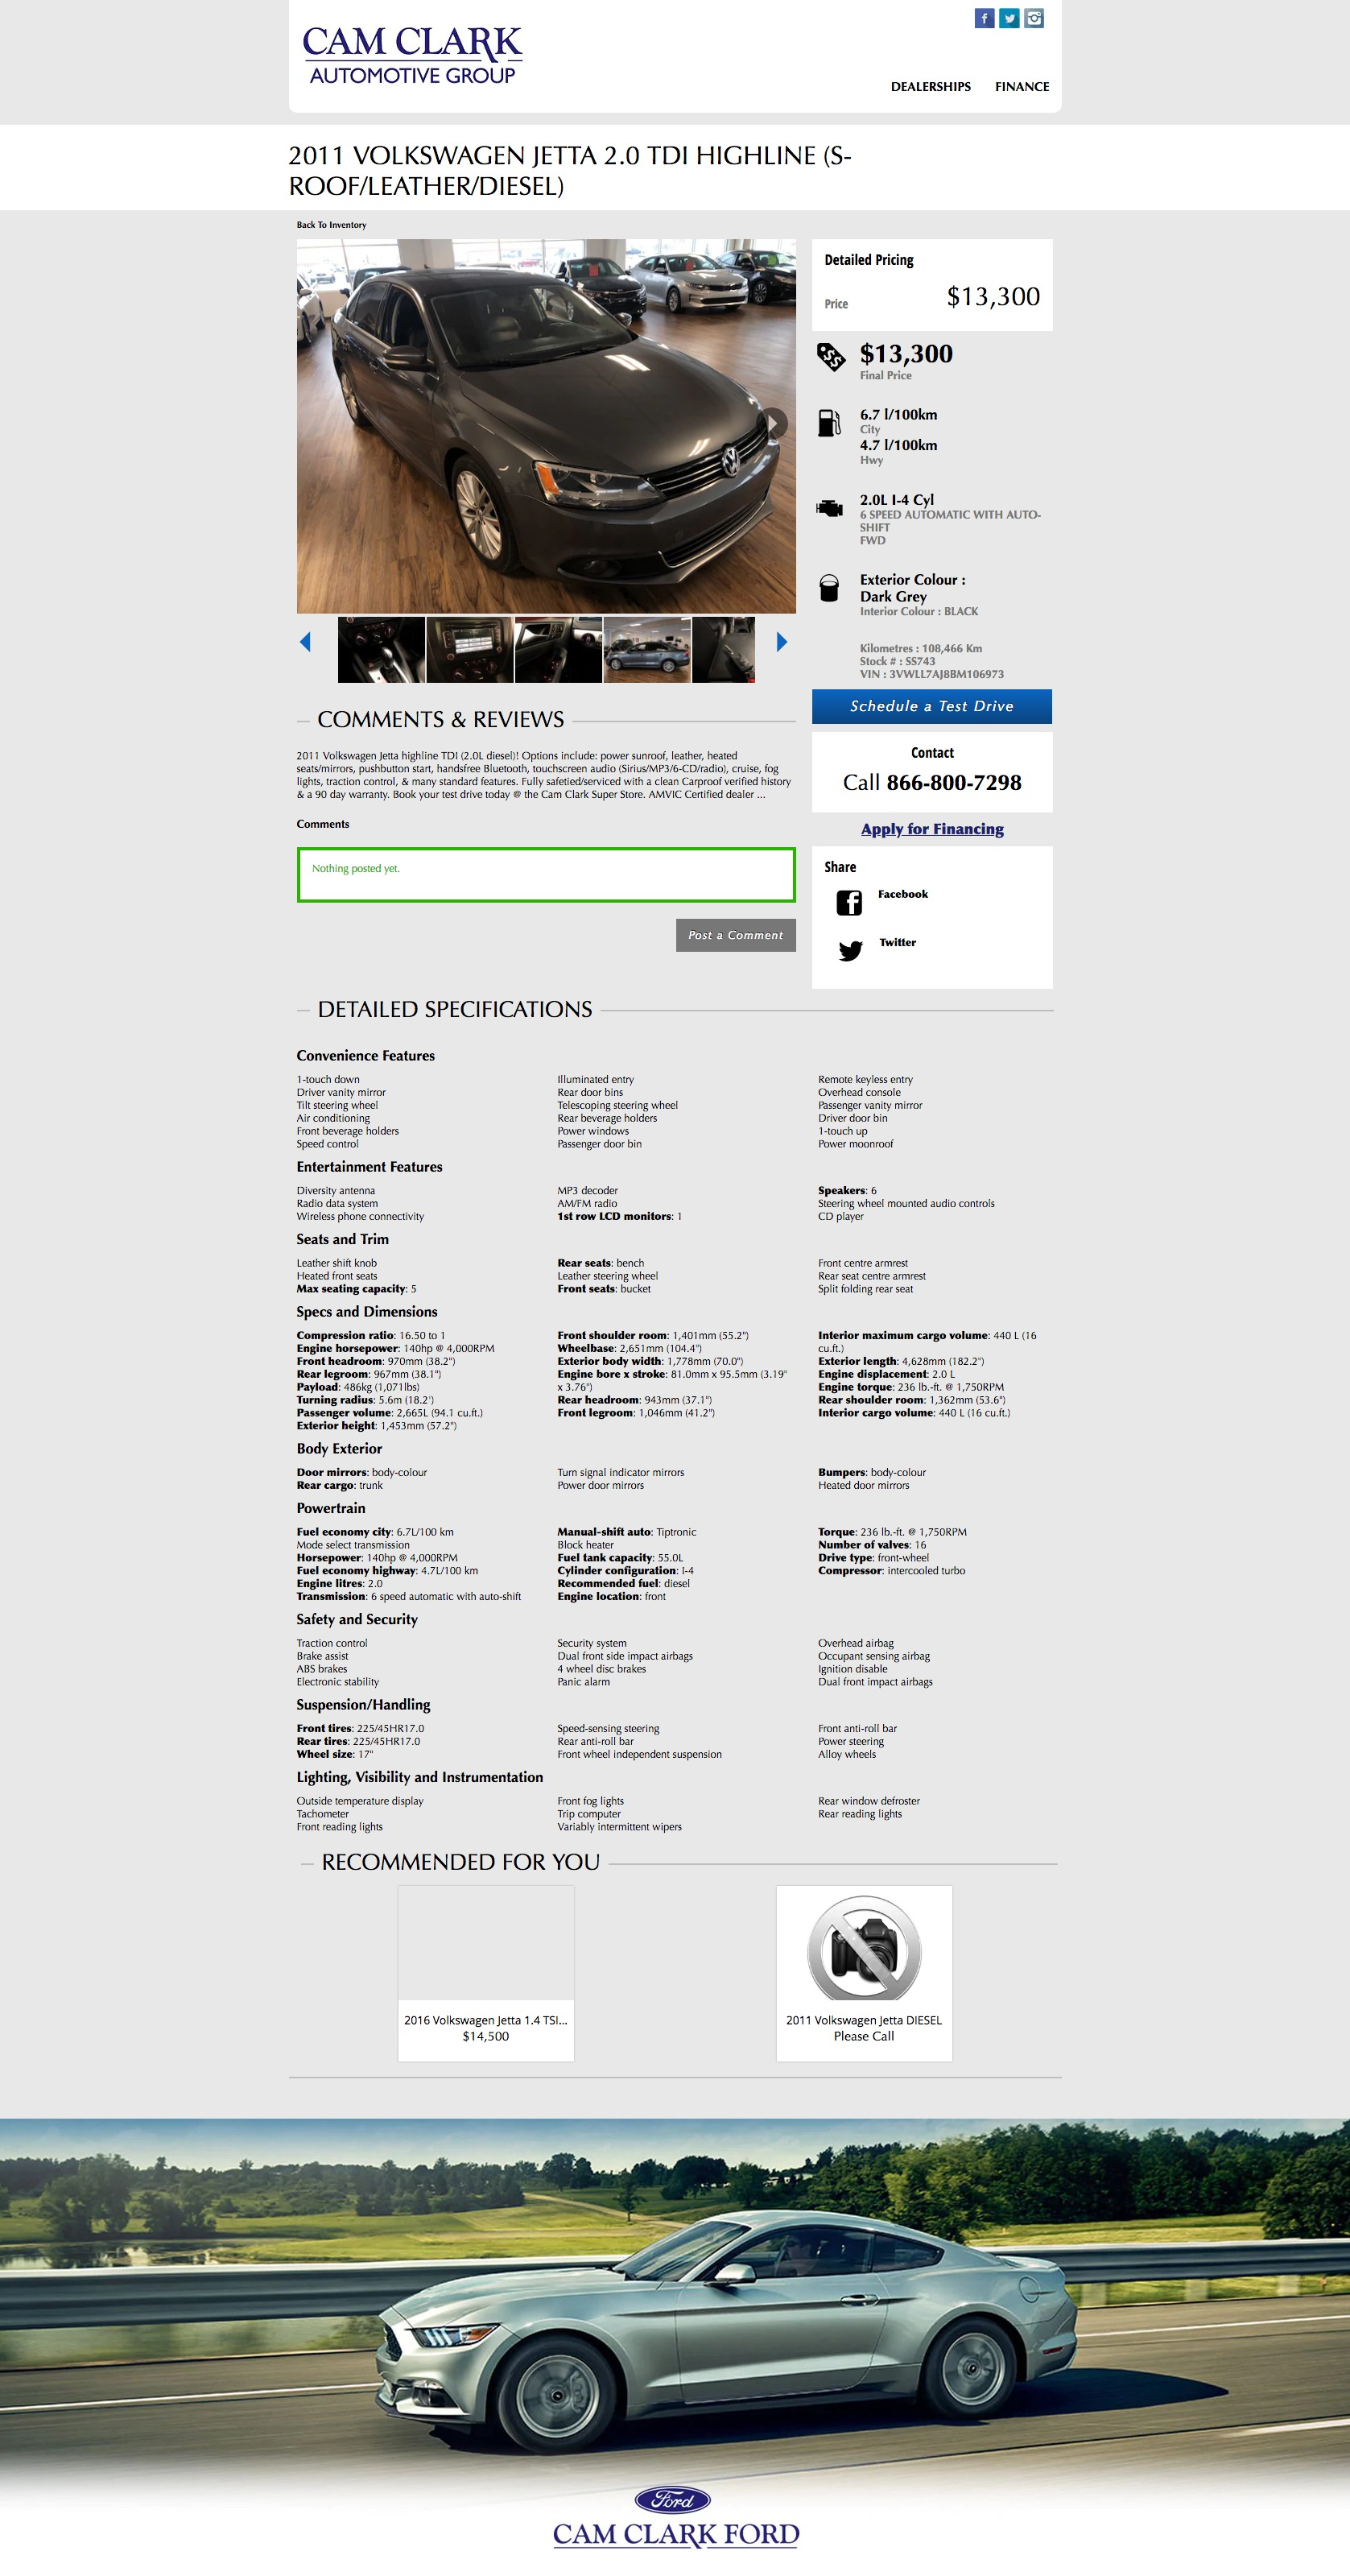car: (776, 632, 790, 654)
